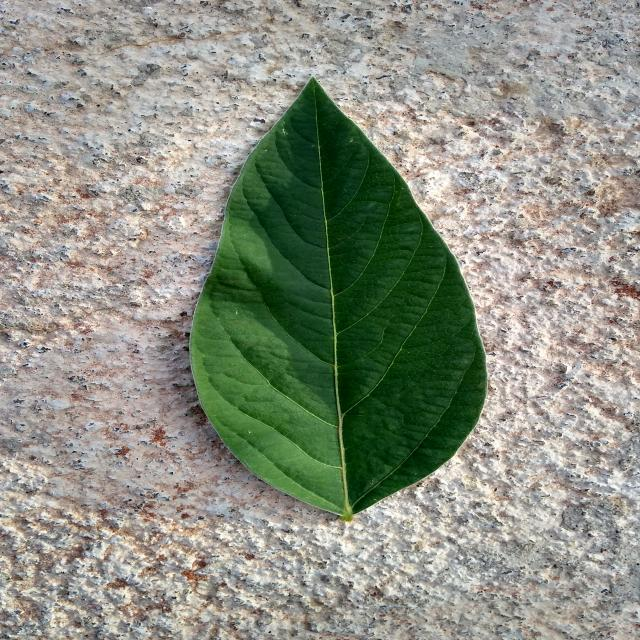pea: (189, 79, 487, 521)
